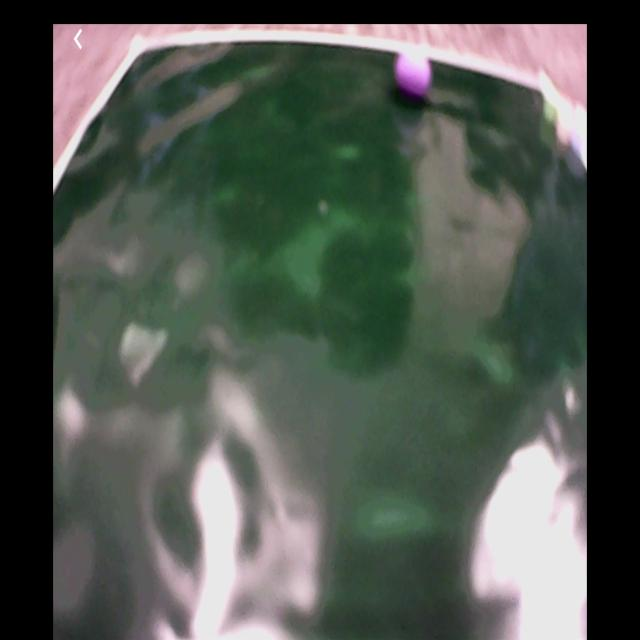ball: (394, 49, 434, 97)
